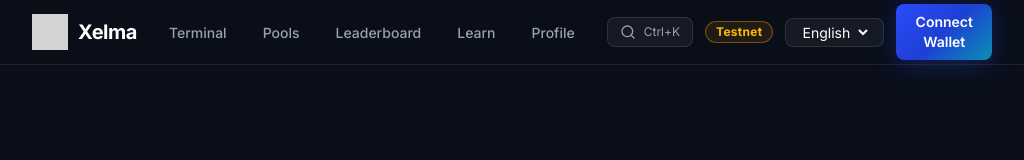
Scenario: Navbar › disconnected state › allows switching languages via the language selector
Select "Español" in the dropdown named "language". click: (835, 32)
box: [798,22,872,42]
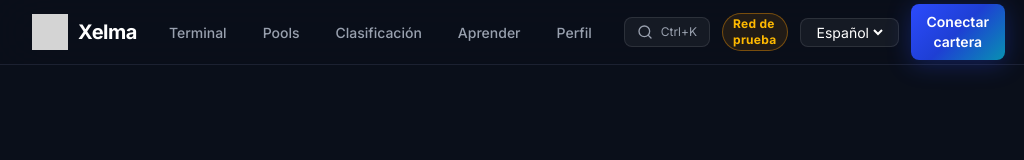
Check: the button "Conectar cartera" is shown, box [910,4,1005,60]
